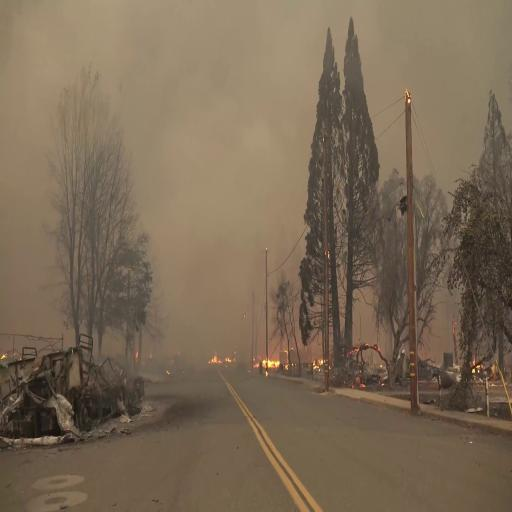smoke: (148, 32, 226, 268), (0, 125, 50, 326), (0, 16, 48, 95)
